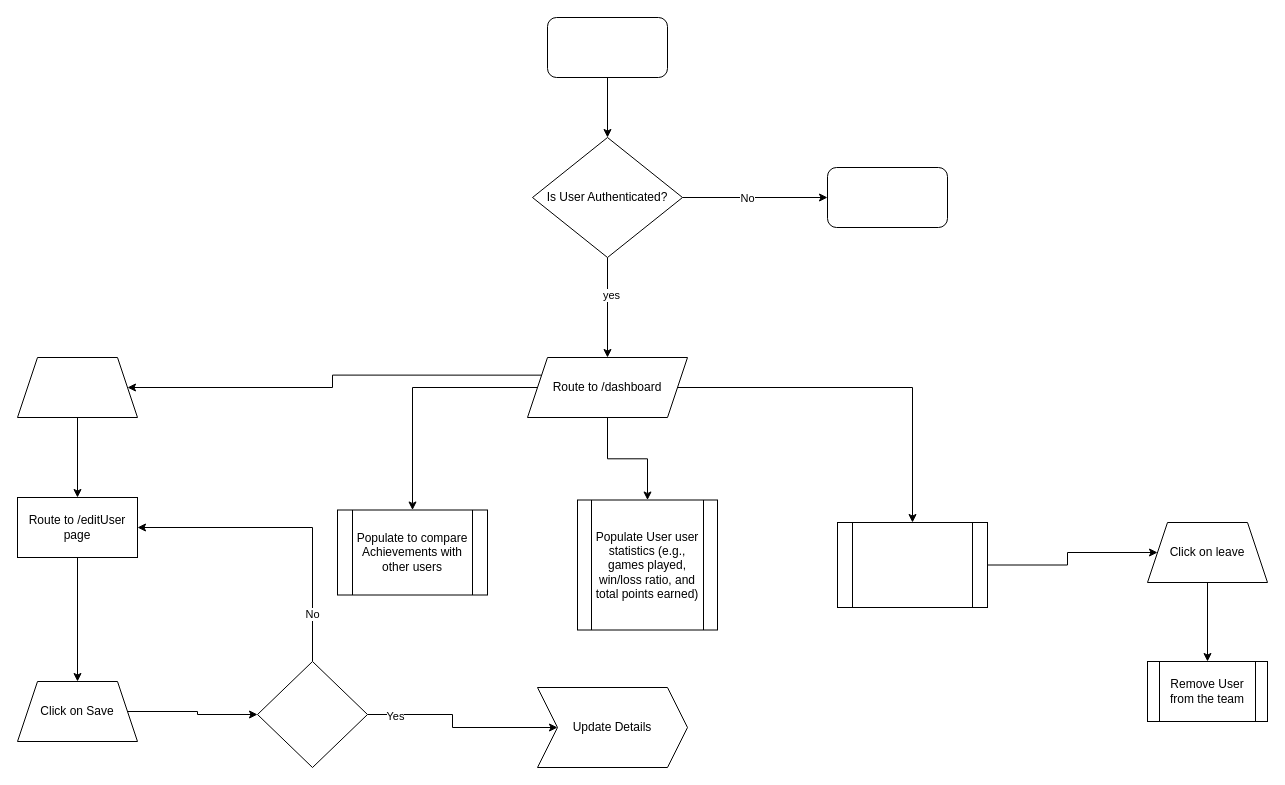
This 1285x785 diagram has some shape labels left out. The shapes that lost their labels are listed below. From the top down, each one's centre as x and y in pixels, then its label:
At (x=607, y=47): "start".
At (x=887, y=197): "No details are populated".
At (x=77, y=387): "Click on Update Details".
At (x=912, y=565): "View and manage team affiliations".
At (x=312, y=714): "Are users details valid?".
